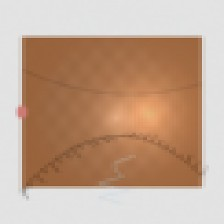foreign_body_visible: (130, 83, 146, 96)
